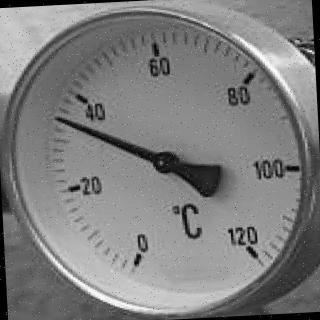gauge: (0, 0, 320, 320), (219, 223, 271, 273), (122, 236, 157, 274), (149, 150, 177, 175), (50, 109, 70, 127)
